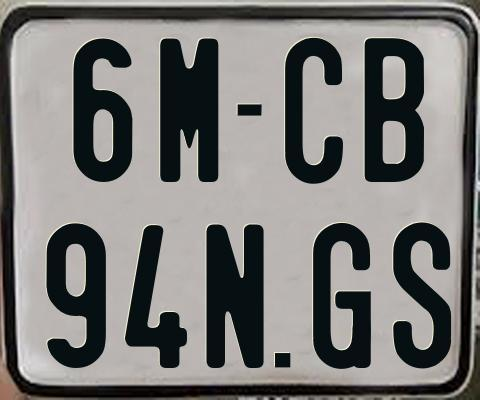4: (125, 222, 192, 370)
6: (71, 36, 131, 186)
9: (44, 222, 109, 369)
B: (365, 37, 429, 186)
C: (284, 38, 347, 186)
G: (310, 221, 373, 373)
M: (158, 35, 217, 181)
N: (206, 221, 267, 365)
S: (390, 222, 454, 373)
